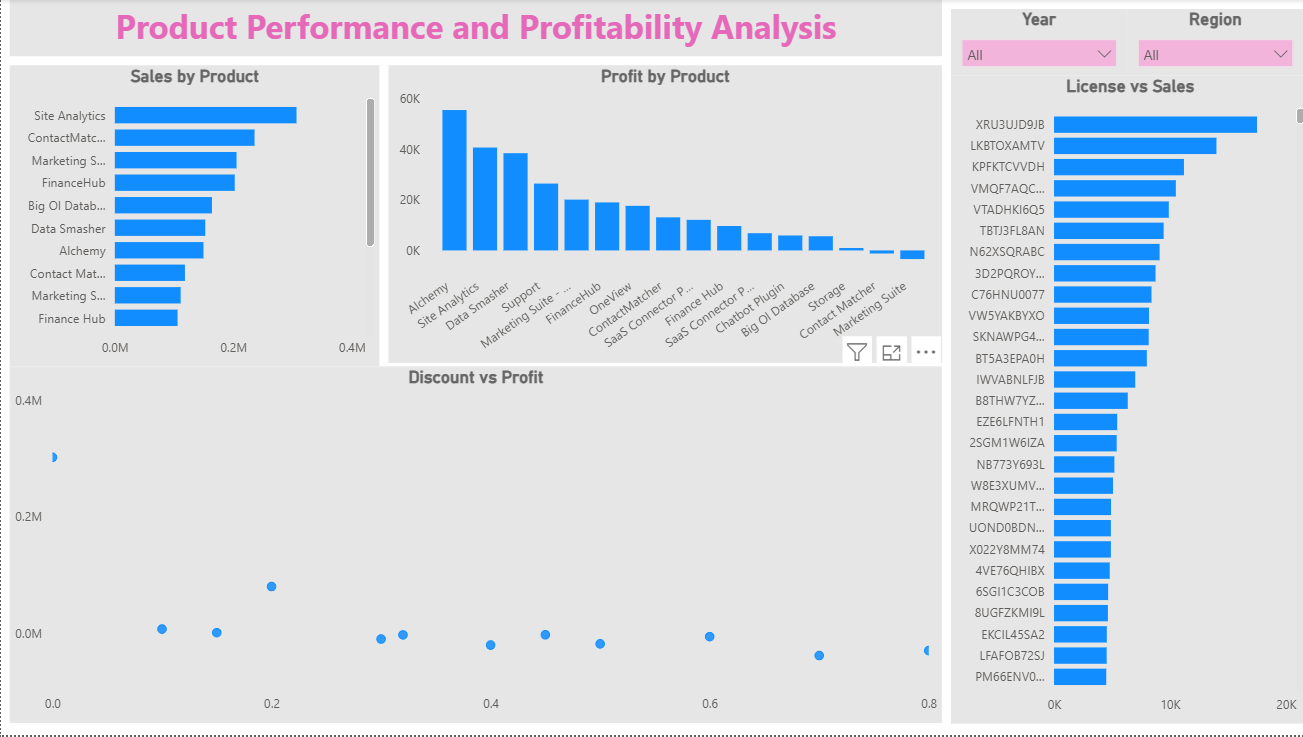

Layout of this report page (visuals, bound fields, positions):
{"tool":"powerbi","page":{"name":"Product & Profitability","canvas":[1280,720],"ordinal":3},"visuals":[{"type":"clusteredBarChart","title":"Sales by Product","fields":{"Category":["SaaS-Sales.Product"],"Y":["SaaS-Sales.Total Sales"]},"box":[8.6,64.8,362,294.7],"z":0},{"type":"clusteredColumnChart","title":" Profit by Product","fields":{"Category":["SaaS-Sales.Product"],"Y":["SaaS-Sales.Total Profit"]},"box":[379.1,64.8,541.7,291],"z":1000},{"type":"scatterChart","title":"Discount vs Profit","fields":{"X":["SaaS-Sales.Discount"],"Y":["SaaS-Sales.Total Profit"]},"box":[8.6,359.5,912.2,348.5],"z":2000},{"type":"textbox","box":[8.6,0,912.2,56.3],"z":3000},{"type":"barChart","title":"License vs Sales","fields":{"Category":["SaaS-Sales.License"],"Y":["SaaS-Sales.Total Sales"]},"box":[929.4,74.6,351,634.7],"z":4000},{"type":"slicer","title":"Region","fields":{"Values":["SaaS-Sales.Region","SaaS-Sales.Country"]},"box":[1101.2,10,172.5,65],"z":5000},{"type":"slicer","title":"Year","fields":{"Values":["SaaS-Sales.Order Date.Variation.Date Hierarchy.Year","SaaS-Sales.Order Date.Variation.Date Hierarchy.Month"]},"box":[929.4,9.8,172.4,64.8],"z":6000}]}

Visuals, with their boxes in screenshot pixels (x1, y1, x2, y2), scaled from the page's 1280x720 canvas onto the 1303x737 screenshot:
"Sales by Product" clusteredBarChart: (left=9, top=66, right=377, bottom=368)
" Profit by Product" clusteredColumnChart: (left=386, top=66, right=937, bottom=364)
"Discount vs Profit" scatterChart: (left=9, top=368, right=937, bottom=725)
textbox: (left=9, top=0, right=937, bottom=58)
"License vs Sales" barChart: (left=946, top=76, right=1302, bottom=726)
"Region" slicer: (left=1121, top=10, right=1297, bottom=77)
"Year" slicer: (left=946, top=10, right=1122, bottom=76)
